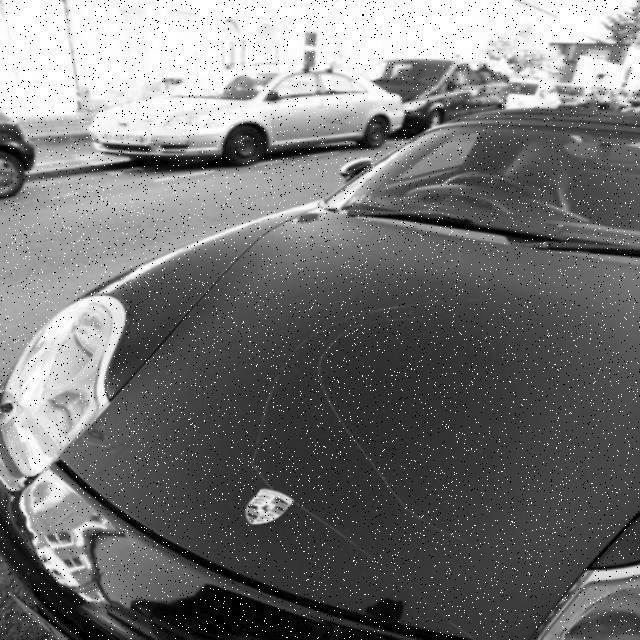bonnet-dent: (62, 226, 603, 594)
